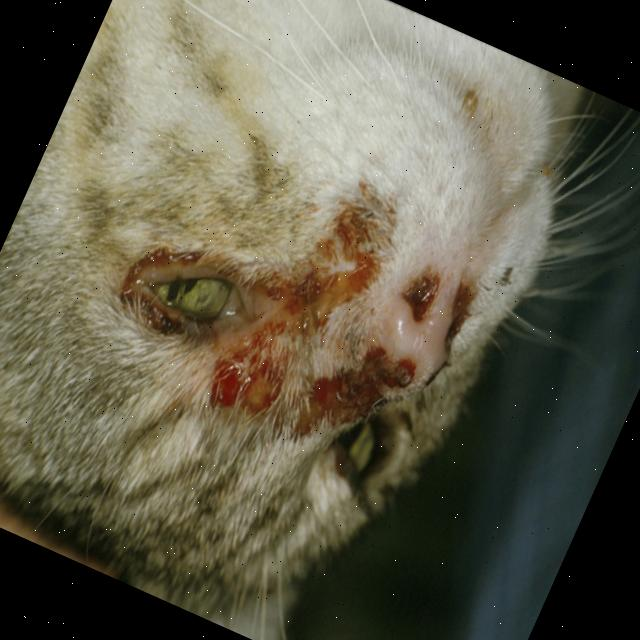cat-dermatitis: (294, 330, 407, 459), (255, 238, 361, 340), (200, 340, 286, 430), (396, 272, 442, 326), (442, 286, 482, 338), (332, 208, 377, 252)
